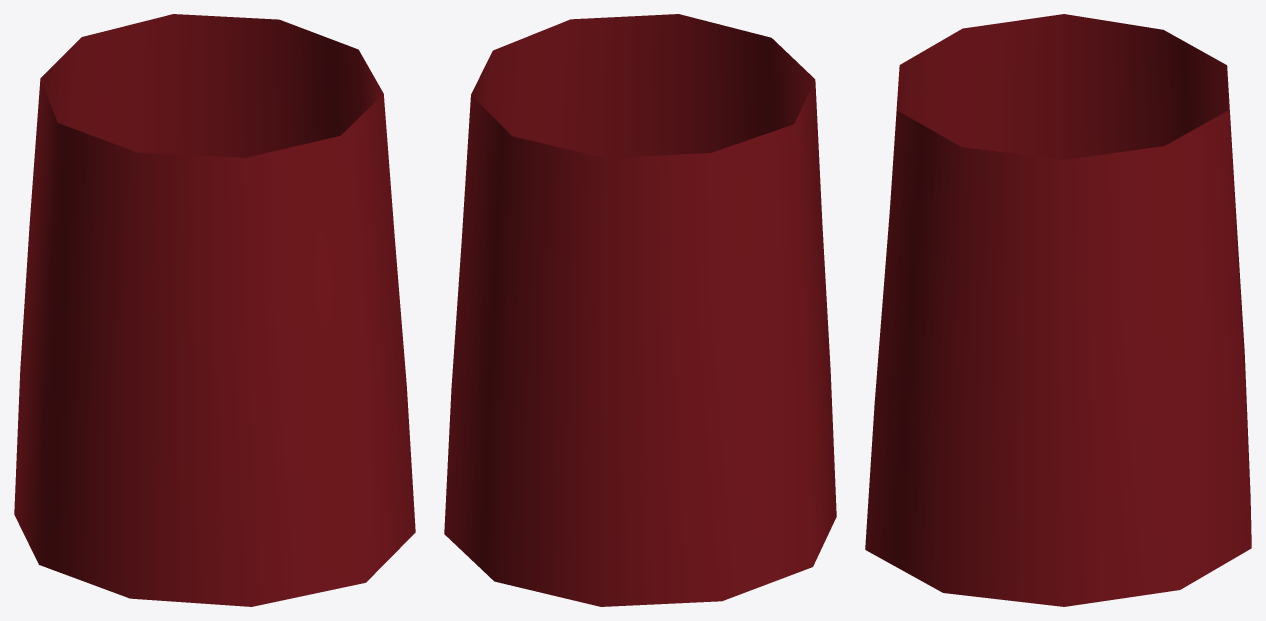
Rendered from santa_costume_bracer.R.glb.
The picture shows the model from 3 angles, left to right: view 1: azimuth 30°, elevation 25°; view 2: azimuth 150°, elevation 25°; view 3: azimuth 270°, elevation 25°; orthographic projection.
Parts seen in each view (by area): view 1: santa_costume_bracer.R; view 2: santa_costume_bracer.R; view 3: santa_costume_bracer.R.
Boxes of the visible parts, x1,y1,x2,y2 form: santa_costume_bracer.R: (14, 14, 415, 606); santa_costume_bracer.R: (444, 14, 836, 606); santa_costume_bracer.R: (865, 14, 1251, 606).
Size of the model in its own units: 0.1288 by 0.1562 by 0.1259.
